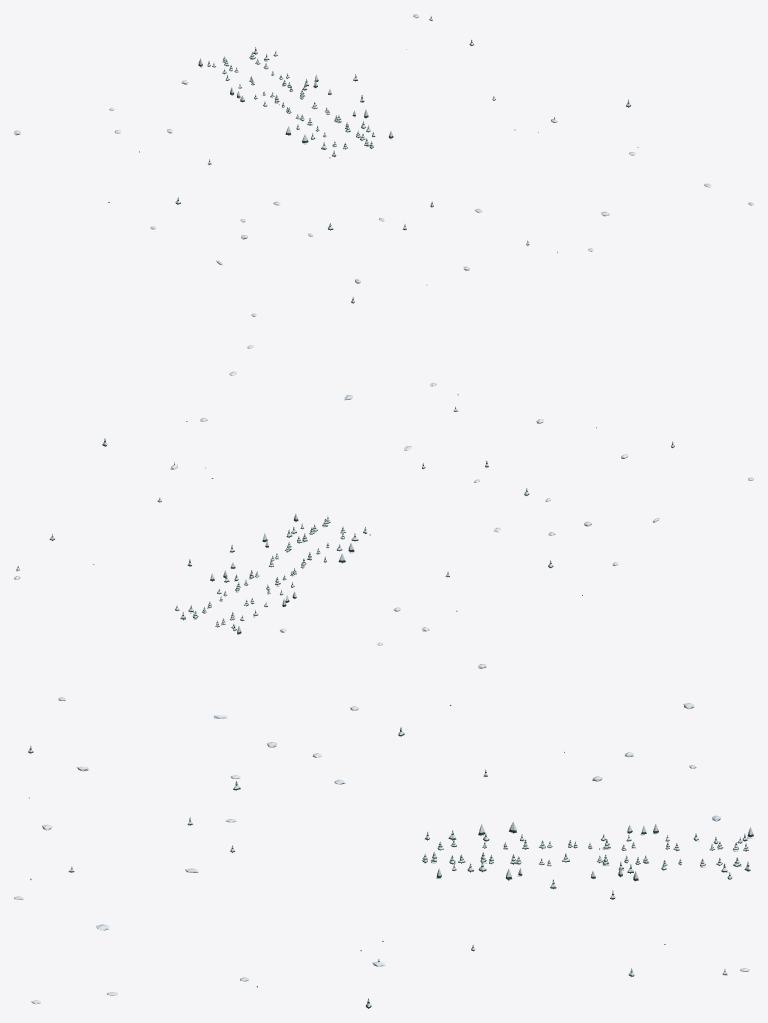
Rendered from Fill_0_2.fbx.
3 views of the same model, one above another, from view 1: azimuth 30°, elevation 25°; view 2: azimuth 150°, elevation 25°; view 3: azimuth 270°, elevation 25° (orthographic). The views are drawn at different scales.
Parts seen in each view (by area): view 1: Fill_0_2; view 2: Fill_0_2; view 3: Fill_0_2.
Part boxes in pixels (box(x1,y1,x2,y2)): Fill_0_2: box(14, 14, 753, 316); Fill_0_2: box(14, 345, 753, 668); Fill_0_2: box(14, 697, 753, 1008).
Size of the model in its own units: 57026 by 1247 by 57436.
